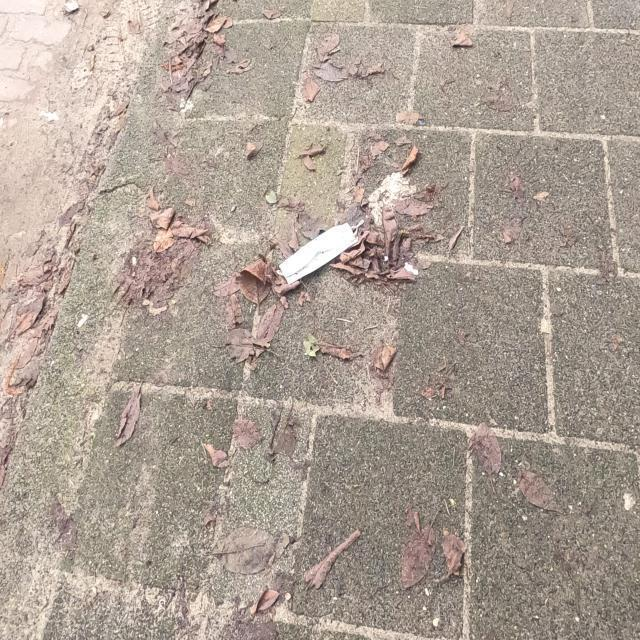Mask: (276, 218, 366, 286)
Paper: (366, 170, 418, 228)
